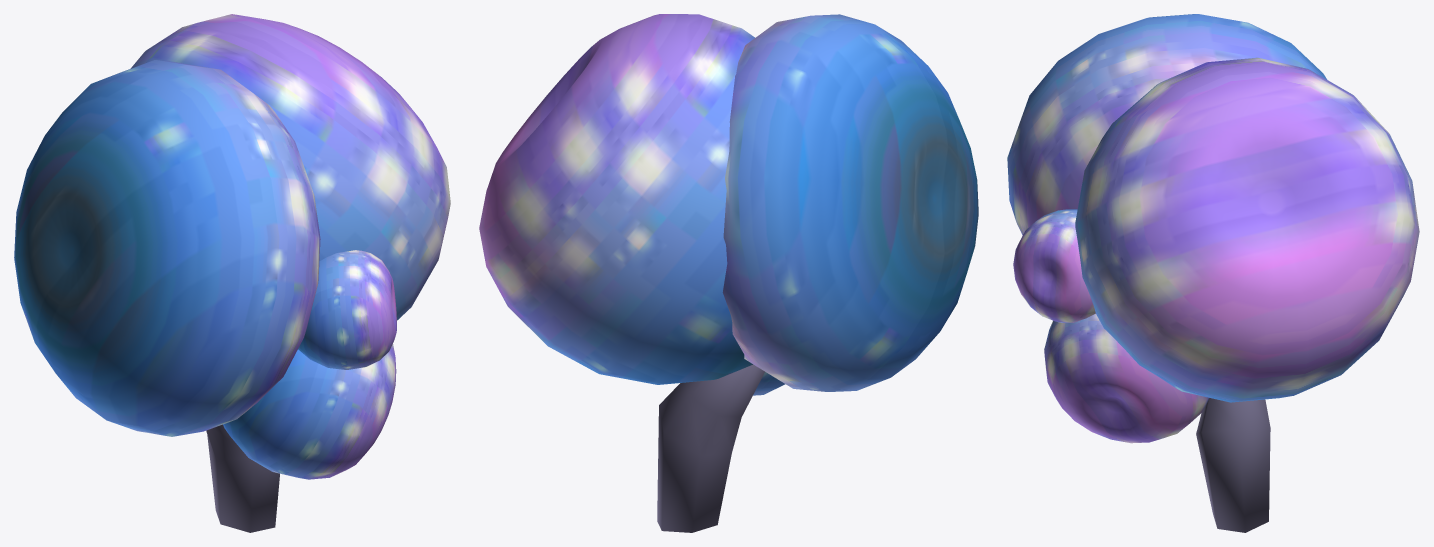
Rendered from fruit1.fbx.
The picture shows the model from 3 angles, left to right: view 1: azimuth 30°, elevation 25°; view 2: azimuth 150°, elevation 25°; view 3: azimuth 270°, elevation 25°; orthographic projection. The views are drawn at different scales.
Visible parts, largest first — view 1: fruit_1; view 2: fruit_1; view 3: fruit_1.
Boxes of the visible parts, box(x1,y1,x2,y2) form: fruit_1: box(14, 14, 450, 532); fruit_1: box(479, 14, 978, 532); fruit_1: box(1007, 14, 1419, 532).
Bounding box in the file's own units: 1.29 × 1.48 × 1.21.
Materials: 1 (1 with a texture image).
